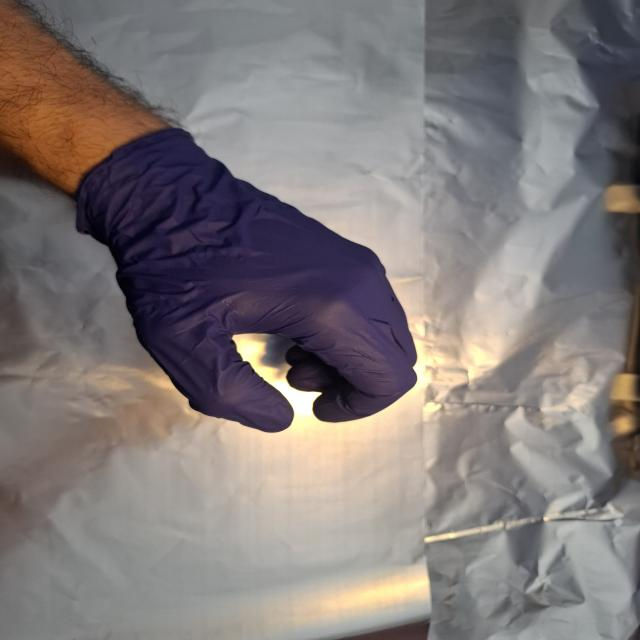glove_on: (61, 123, 424, 437)
